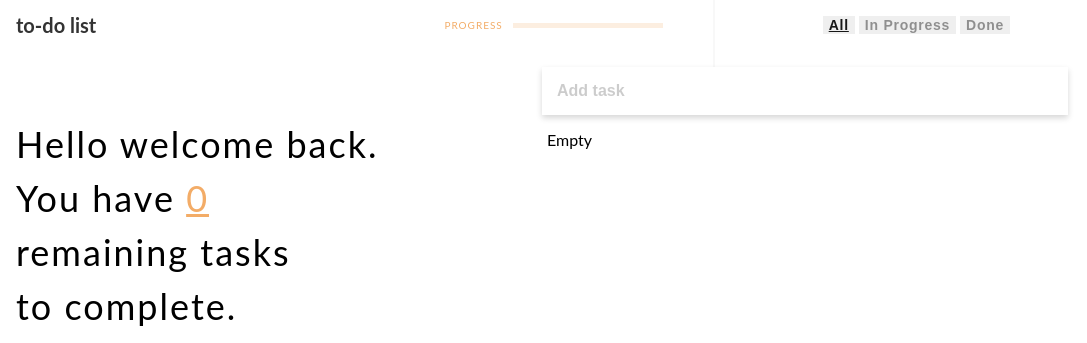
Test: todo app › As a user i can edit todo title
In the field with test id "todo-input": {"x": 805, "y": 91} [542,67,1068,115], type "Have a lunch"
Then press Enter
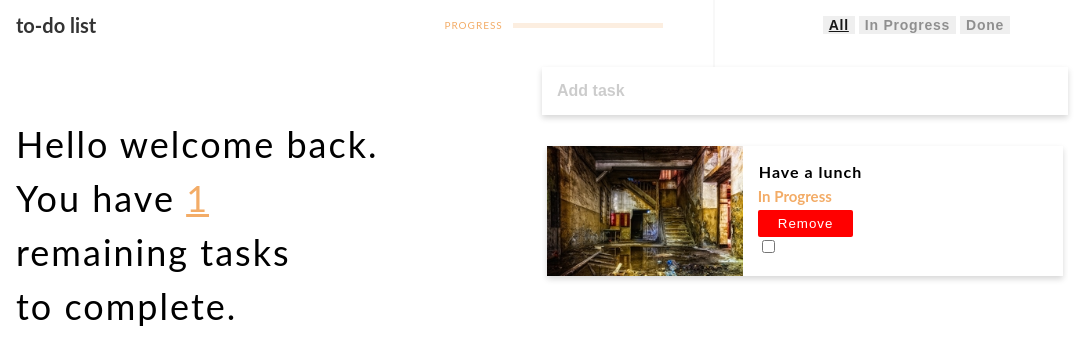
Click the text "Have a lunch": {"x": 811, "y": 172} [759,162,863,181]
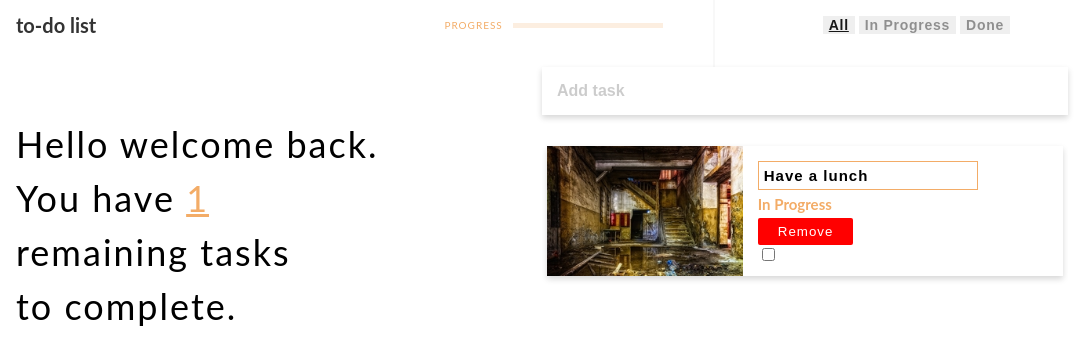
Replace the text in the field with test id "edit-input" with "Have a wife": {"x": 868, "y": 176} [758,161,978,190]
Then press Enter
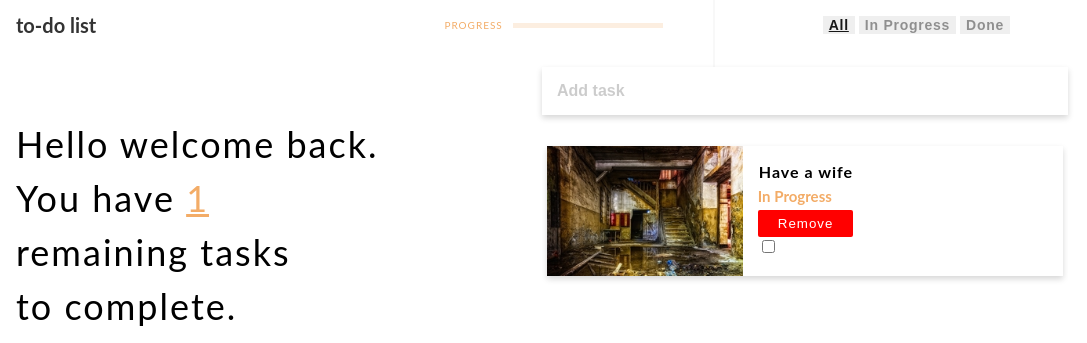
Result: the text "Have a wife" is shown at [759,162,853,181]
